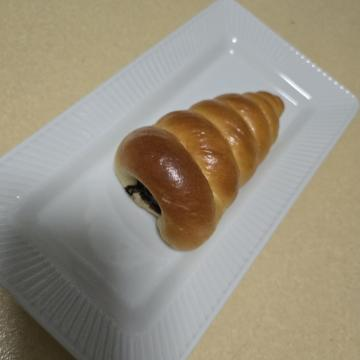cream horn: (73, 58, 264, 260)
